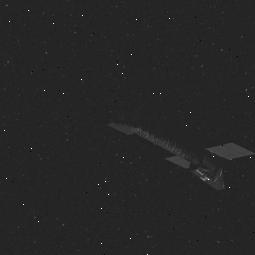xmm_newton: (107, 98, 245, 206)
